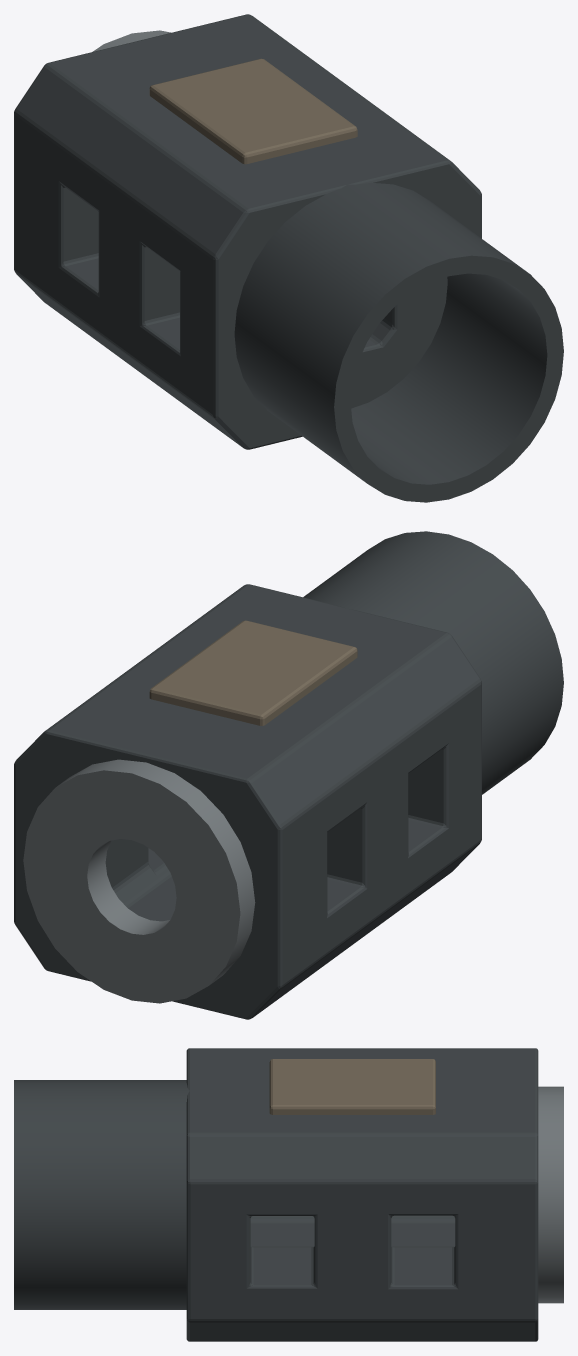
Rendered from compensator.glb.
3 views of the same model, one above another, from view 1: azimuth 30°, elevation 25°; view 2: azimuth 150°, elevation 25°; view 3: azimuth 270°, elevation 25° (orthographic). The views are drawn at different scales.
Visible parts, largest first — view 1: compensator_metal, compensator_Bronze_top_land; view 2: compensator_metal, compensator_Front_crown, compensator_Bronze_top_land; view 3: compensator_metal, compensator_Bronze_top_land, compensator_Front_crown.
Part boxes in pixels (x1,y1,x2,y2): compensator_metal: (14, 14, 563, 502); compensator_Bronze_top_land: (149, 58, 357, 164); compensator_metal: (14, 531, 563, 1019); compensator_Front_crown: (23, 759, 255, 1003); compensator_Bronze_top_land: (149, 620, 357, 725); compensator_metal: (14, 1048, 538, 1341); compensator_Bronze_top_land: (269, 1059, 435, 1114); compensator_Front_crown: (538, 1086, 563, 1303).
Size of the model in its own units: 0.042 by 0.0375 by 0.086.
